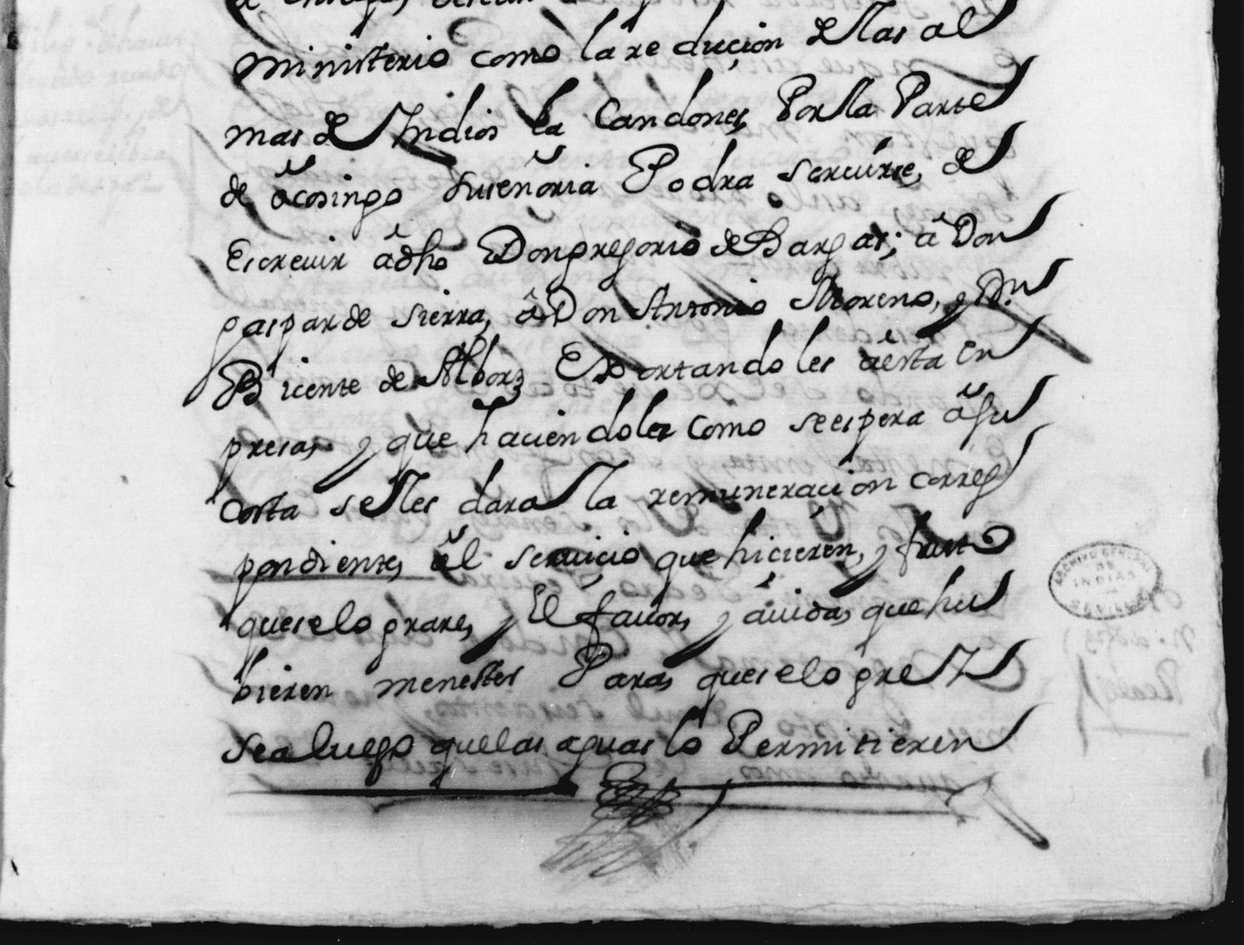lacandon: (531, 67, 749, 136)
